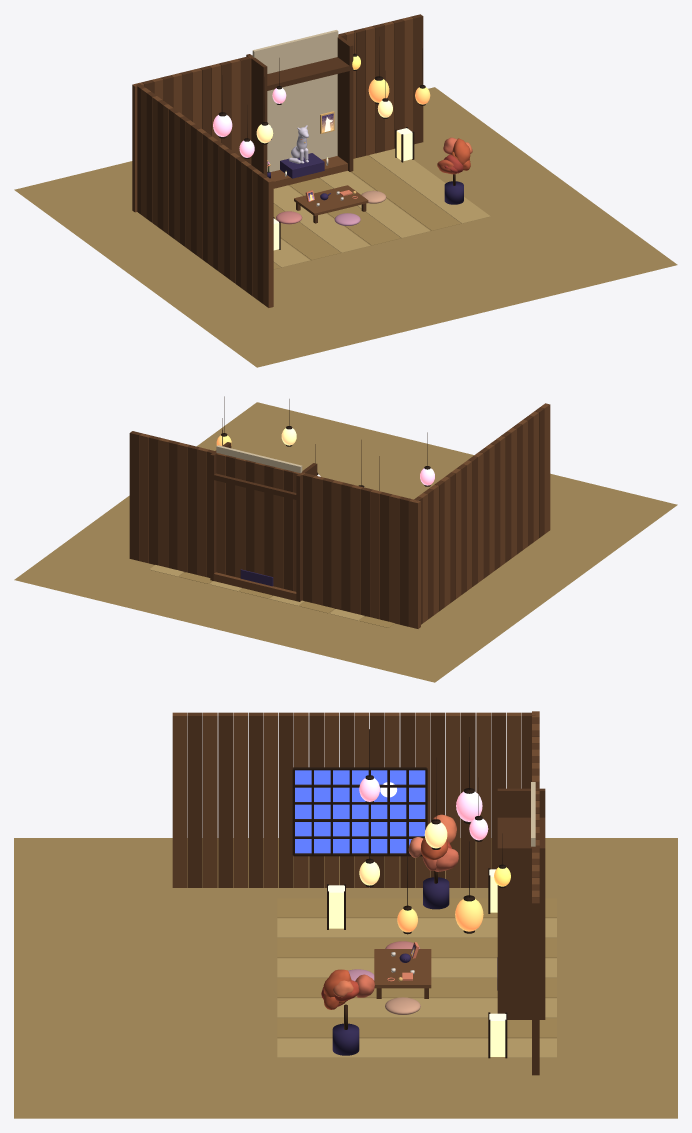
Rendered from C_house.glb.
The picture shows the model from 3 angles, top to bottom: view 1: azimuth 30°, elevation 25°; view 2: azimuth 150°, elevation 25°; view 3: azimuth 270°, elevation 25°; orthographic projection. The views are drawn at different scales.
Parts seen in each view (by area): view 1: environment_0, environment_4, environment_3, environment_8, environment_2, environment_1, environment_28, environment_33, environment_9, environment_31, environment_6; view 2: environment_0, environment_4, environment_3, environment_1, environment_8, environment_2; view 3: environment_0, environment_4, environment_3, environment_2, environment_1, environment_5, environment_6, environment_33, environment_34, environment_28, environment_31, environment_30 (+1 smaller).
Boxes of the visible parts, bbox=[...] form: environment_0: bbox=[14, 87, 677, 367]; environment_4: bbox=[136, 14, 423, 303]; environment_3: bbox=[132, 16, 413, 307]; environment_8: bbox=[252, 30, 338, 171]; environment_2: bbox=[273, 148, 490, 267]; environment_1: bbox=[273, 155, 460, 269]; environment_28: bbox=[213, 88, 286, 157]; environment_33: bbox=[273, 128, 412, 250]; environment_9: bbox=[280, 153, 324, 178]; environment_31: bbox=[368, 79, 430, 104]; environment_6: bbox=[222, 31, 422, 249]; environment_0: bbox=[14, 402, 677, 682]; environment_4: bbox=[129, 407, 544, 626]; environment_3: bbox=[139, 403, 550, 628]; environment_1: bbox=[179, 572, 394, 627]; environment_8: bbox=[216, 445, 302, 473]; environment_2: bbox=[149, 565, 364, 620]; environment_0: bbox=[14, 838, 677, 1118]; environment_4: bbox=[187, 712, 545, 1075]; environment_3: bbox=[172, 711, 539, 988]; environment_2: bbox=[277, 918, 556, 1057]; environment_1: bbox=[277, 898, 556, 1037]; environment_5: bbox=[295, 770, 425, 853]; environment_6: bbox=[292, 729, 507, 1058]; environment_33: bbox=[328, 869, 506, 1056]; environment_34: bbox=[332, 877, 449, 1055]; environment_28: bbox=[359, 778, 488, 840]; environment_31: bbox=[397, 899, 483, 932]; environment_30: bbox=[359, 822, 447, 885].
Size of the model in its own units: 14 by 4.41 by 14.
Materials: 53 (3 with a texture image).
